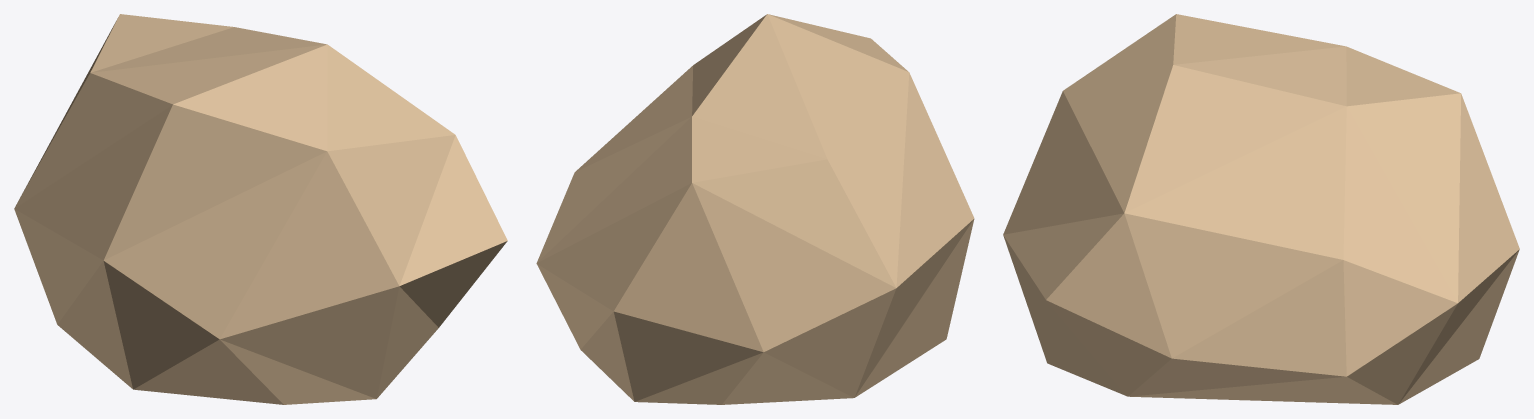
Rendered from stone-round.glb.
The picture shows the model from 3 angles, left to right: view 1: azimuth 30°, elevation 25°; view 2: azimuth 150°, elevation 25°; view 3: azimuth 270°, elevation 25°; orthographic projection. The views are drawn at different scales.
Visible parts, largest first — view 1: stone-round; view 2: stone-round; view 3: stone-round.
Part boxes in pixels (left/top/right/bottom): stone-round: left=14, top=14, right=507, bottom=404; stone-round: left=536, top=14, right=974, bottom=404; stone-round: left=1003, top=14, right=1519, bottom=404.
Size of the model in its own units: 2.58 by 2.27 by 3.03.
1 material, 1 textured.
